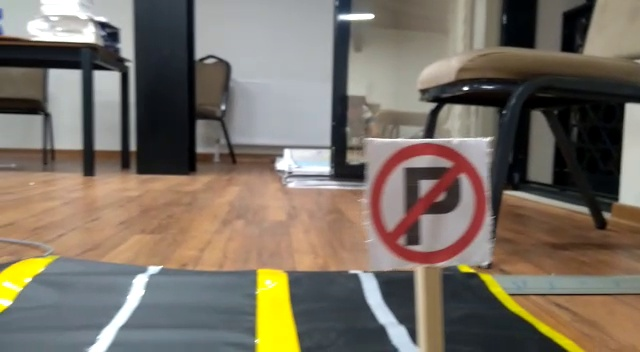park_yapilmaz: (366, 144, 487, 271)
